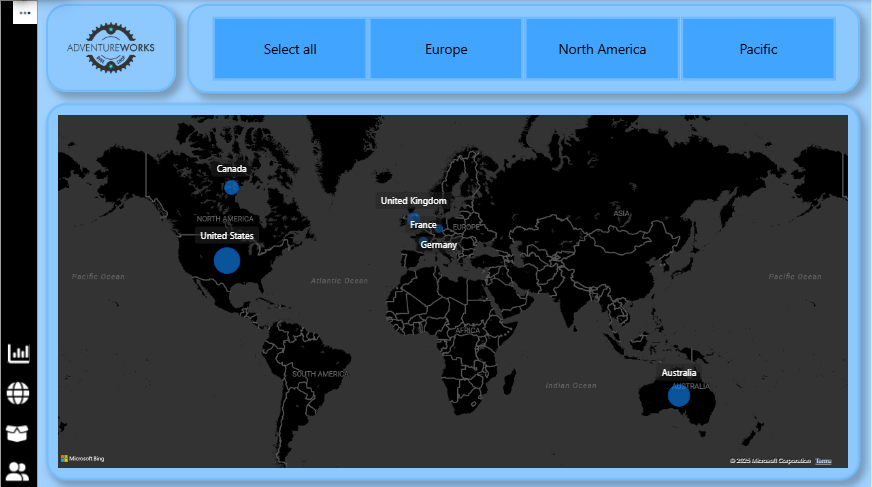

The dashboard page shown, as its layout file describes it:
{"tool":"powerbi","page":{"name":"Map","canvas":[1280,720],"ordinal":1},"visuals":[{"type":"shape","box":[0,0,55.3,720],"z":0},{"type":"actionButton","box":[6.7,494.4,40,51.4],"z":0,"group":"g1"},{"type":"image","box":[67.6,5.9,191,129.3],"z":1000},{"type":"actionButton","box":[5.6,545.8,41.1,64.7],"z":1000,"group":"g1"},{"type":"actionButton","box":[4.5,610.5,41.1,55.8],"z":2000,"group":"g1"},{"type":"group","id":"g1","title":"Page Navigation","box":[4.5,494.4,43.3,225.6],"z":2000},{"type":"map","fields":{"Category":["Territory Lookup.Country"],"Size":["Measure Table.Total Orders"]},"box":[67.6,151.3,1196.1,554],"z":3000},{"type":"actionButton","box":[4.5,666.3,42.3,54.4],"z":3000,"group":"g1"},{"type":"slicer","fields":{"Values":["Territory Lookup.Continent"]},"box":[274.8,5.9,988.9,130.8],"z":4000}]}

Visuals, with their boxes on the page's 1280x720 design canvas (x1, y1, x2, y2). These are canvas units, not pixel positions in the 872x487 screenshot, which may show the page scaled, cropped or inside an application window:
shape: x1=0 y1=0 x2=55 y2=720
actionButton: x1=7 y1=494 x2=47 y2=546
image: x1=68 y1=6 x2=259 y2=135
actionButton: x1=6 y1=546 x2=47 y2=610
actionButton: x1=4 y1=610 x2=46 y2=666
"Page Navigation" group: x1=4 y1=494 x2=48 y2=720
map - Territory Lookup.Country x Measure Table.Total Orders: x1=68 y1=151 x2=1264 y2=705
actionButton: x1=4 y1=666 x2=47 y2=721
slicer - Territory Lookup.Continent: x1=275 y1=6 x2=1264 y2=137
